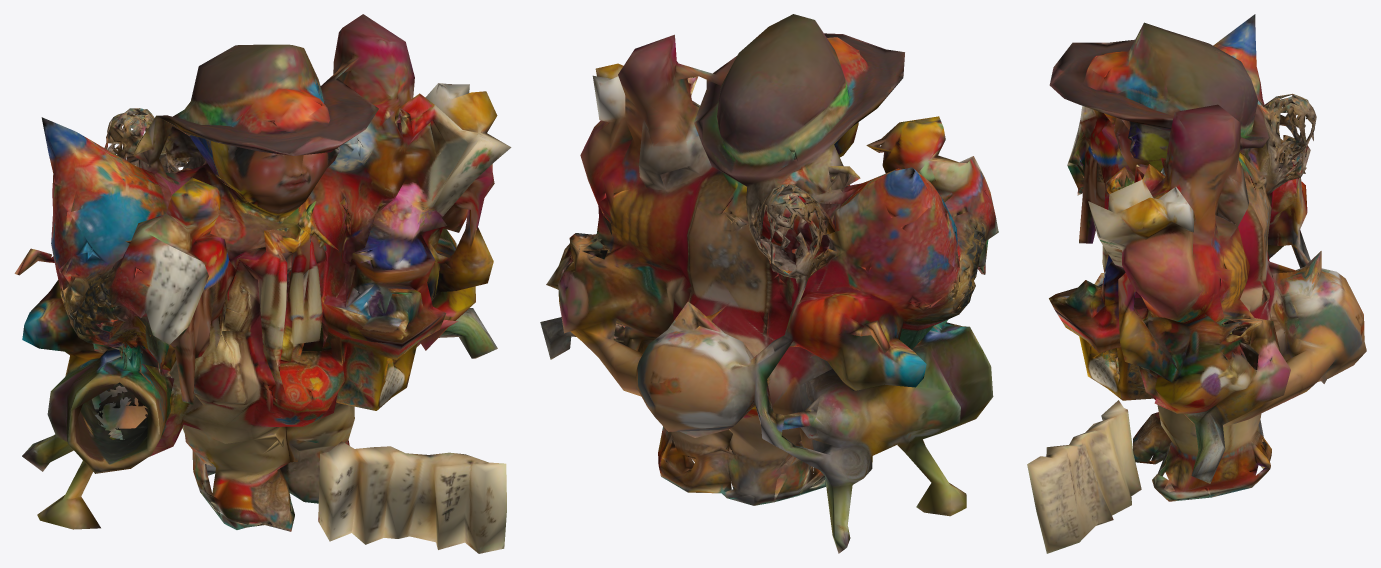
3 views of the same model, side by side, from view 1: azimuth 30°, elevation 25°; view 2: azimuth 150°, elevation 25°; view 3: azimuth 270°, elevation 25° (orthographic). The views are drawn at different scales.
Size of the model in its own units: 1.87 by 1.99 by 1.36.
Materials: 1 (1 with a texture image).
